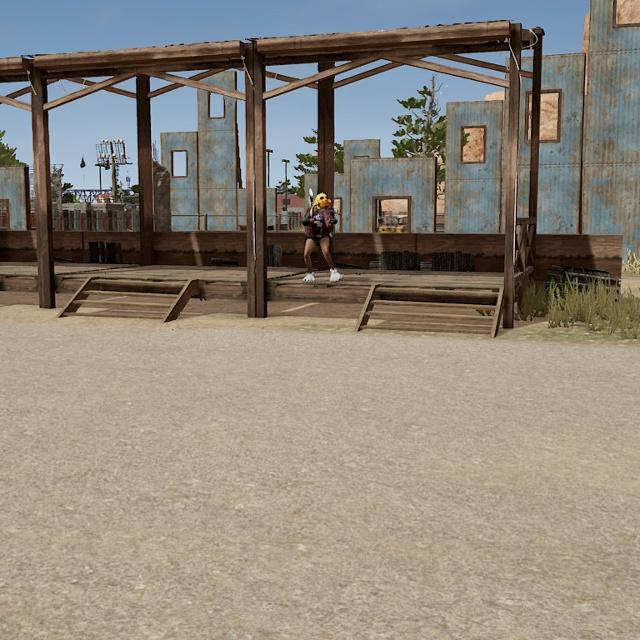head: (314, 192, 331, 212)
people: (301, 192, 344, 284)
